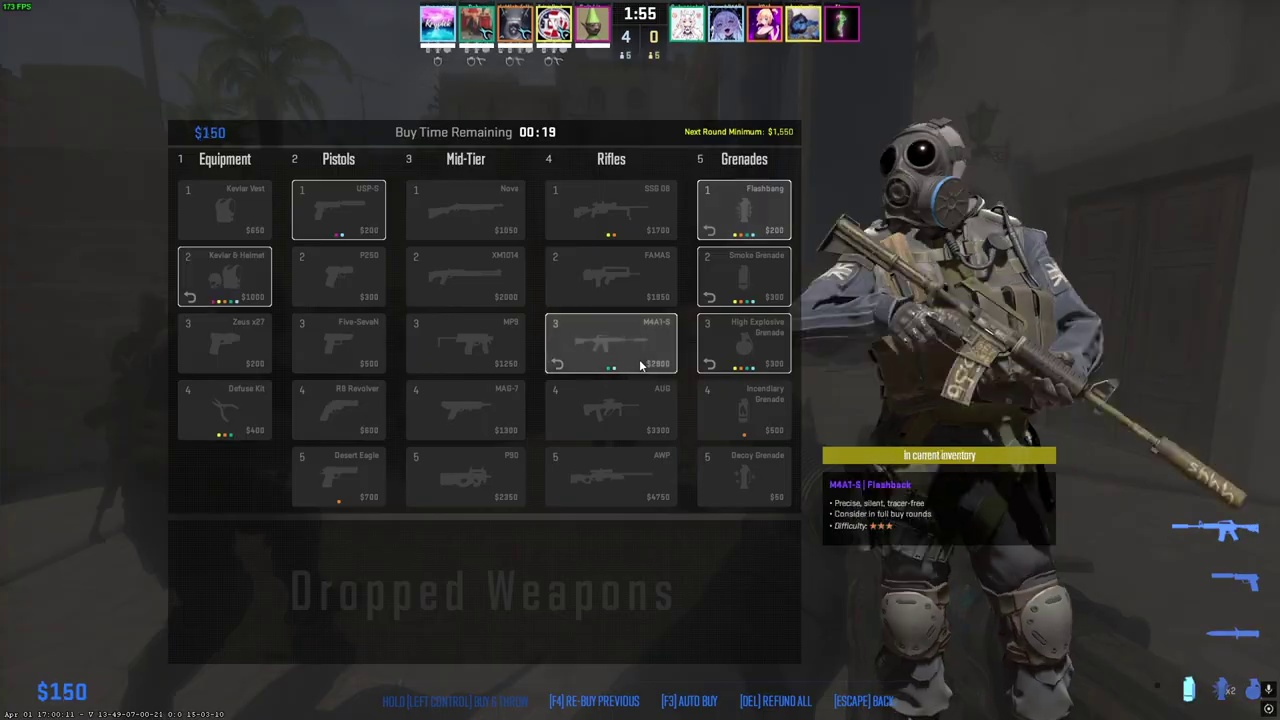CT: (850, 123, 1089, 720)
